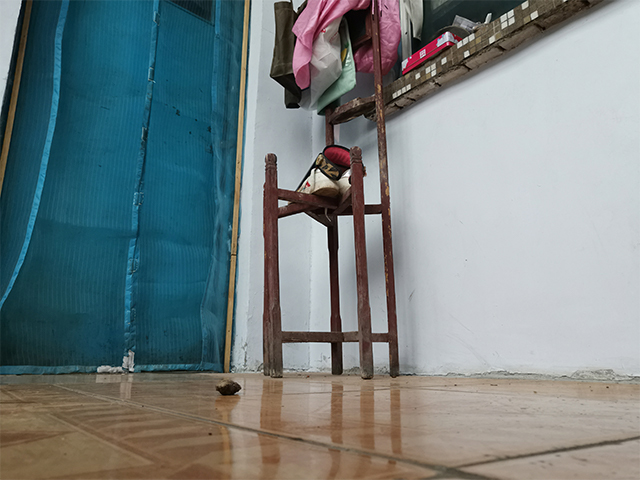feces: (213, 378, 244, 398)
